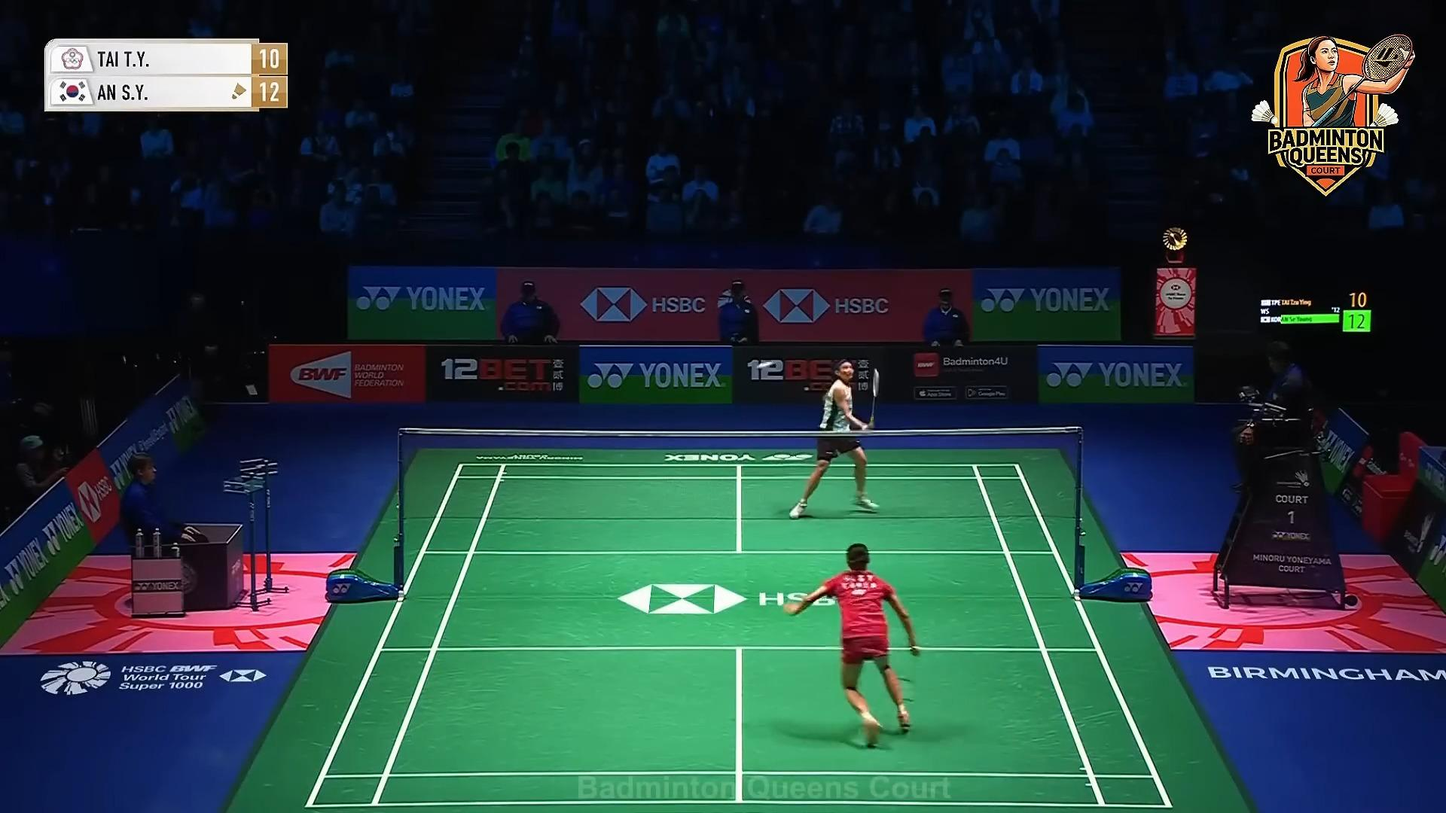shuttlecock: (756, 359, 775, 370)
